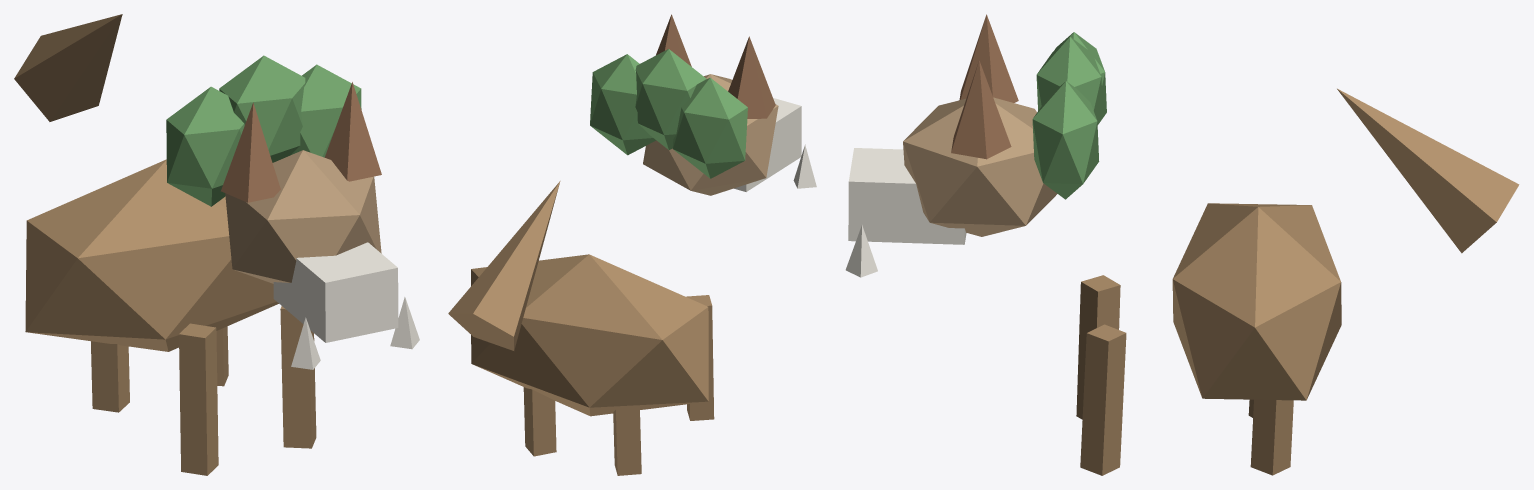
Rendered from npcpose_wolf_idle_07.glb.
3 renders of one model, left to right at view 1: azimuth 30°, elevation 25°; view 2: azimuth 150°, elevation 25°; view 3: azimuth 270°, elevation 25°, orthographic. The views are drawn at different scales.
Parts seen in each view (by area): view 1: npcpose; view 2: npcpose; view 3: npcpose.
Part boxes in pixels (bbox=[...]): npcpose: bbox=[14, 14, 419, 475]; npcpose: bbox=[448, 14, 816, 475]; npcpose: bbox=[845, 14, 1519, 475].
Size of the model in its own units: 0.8872 by 1.23 by 1.85.
